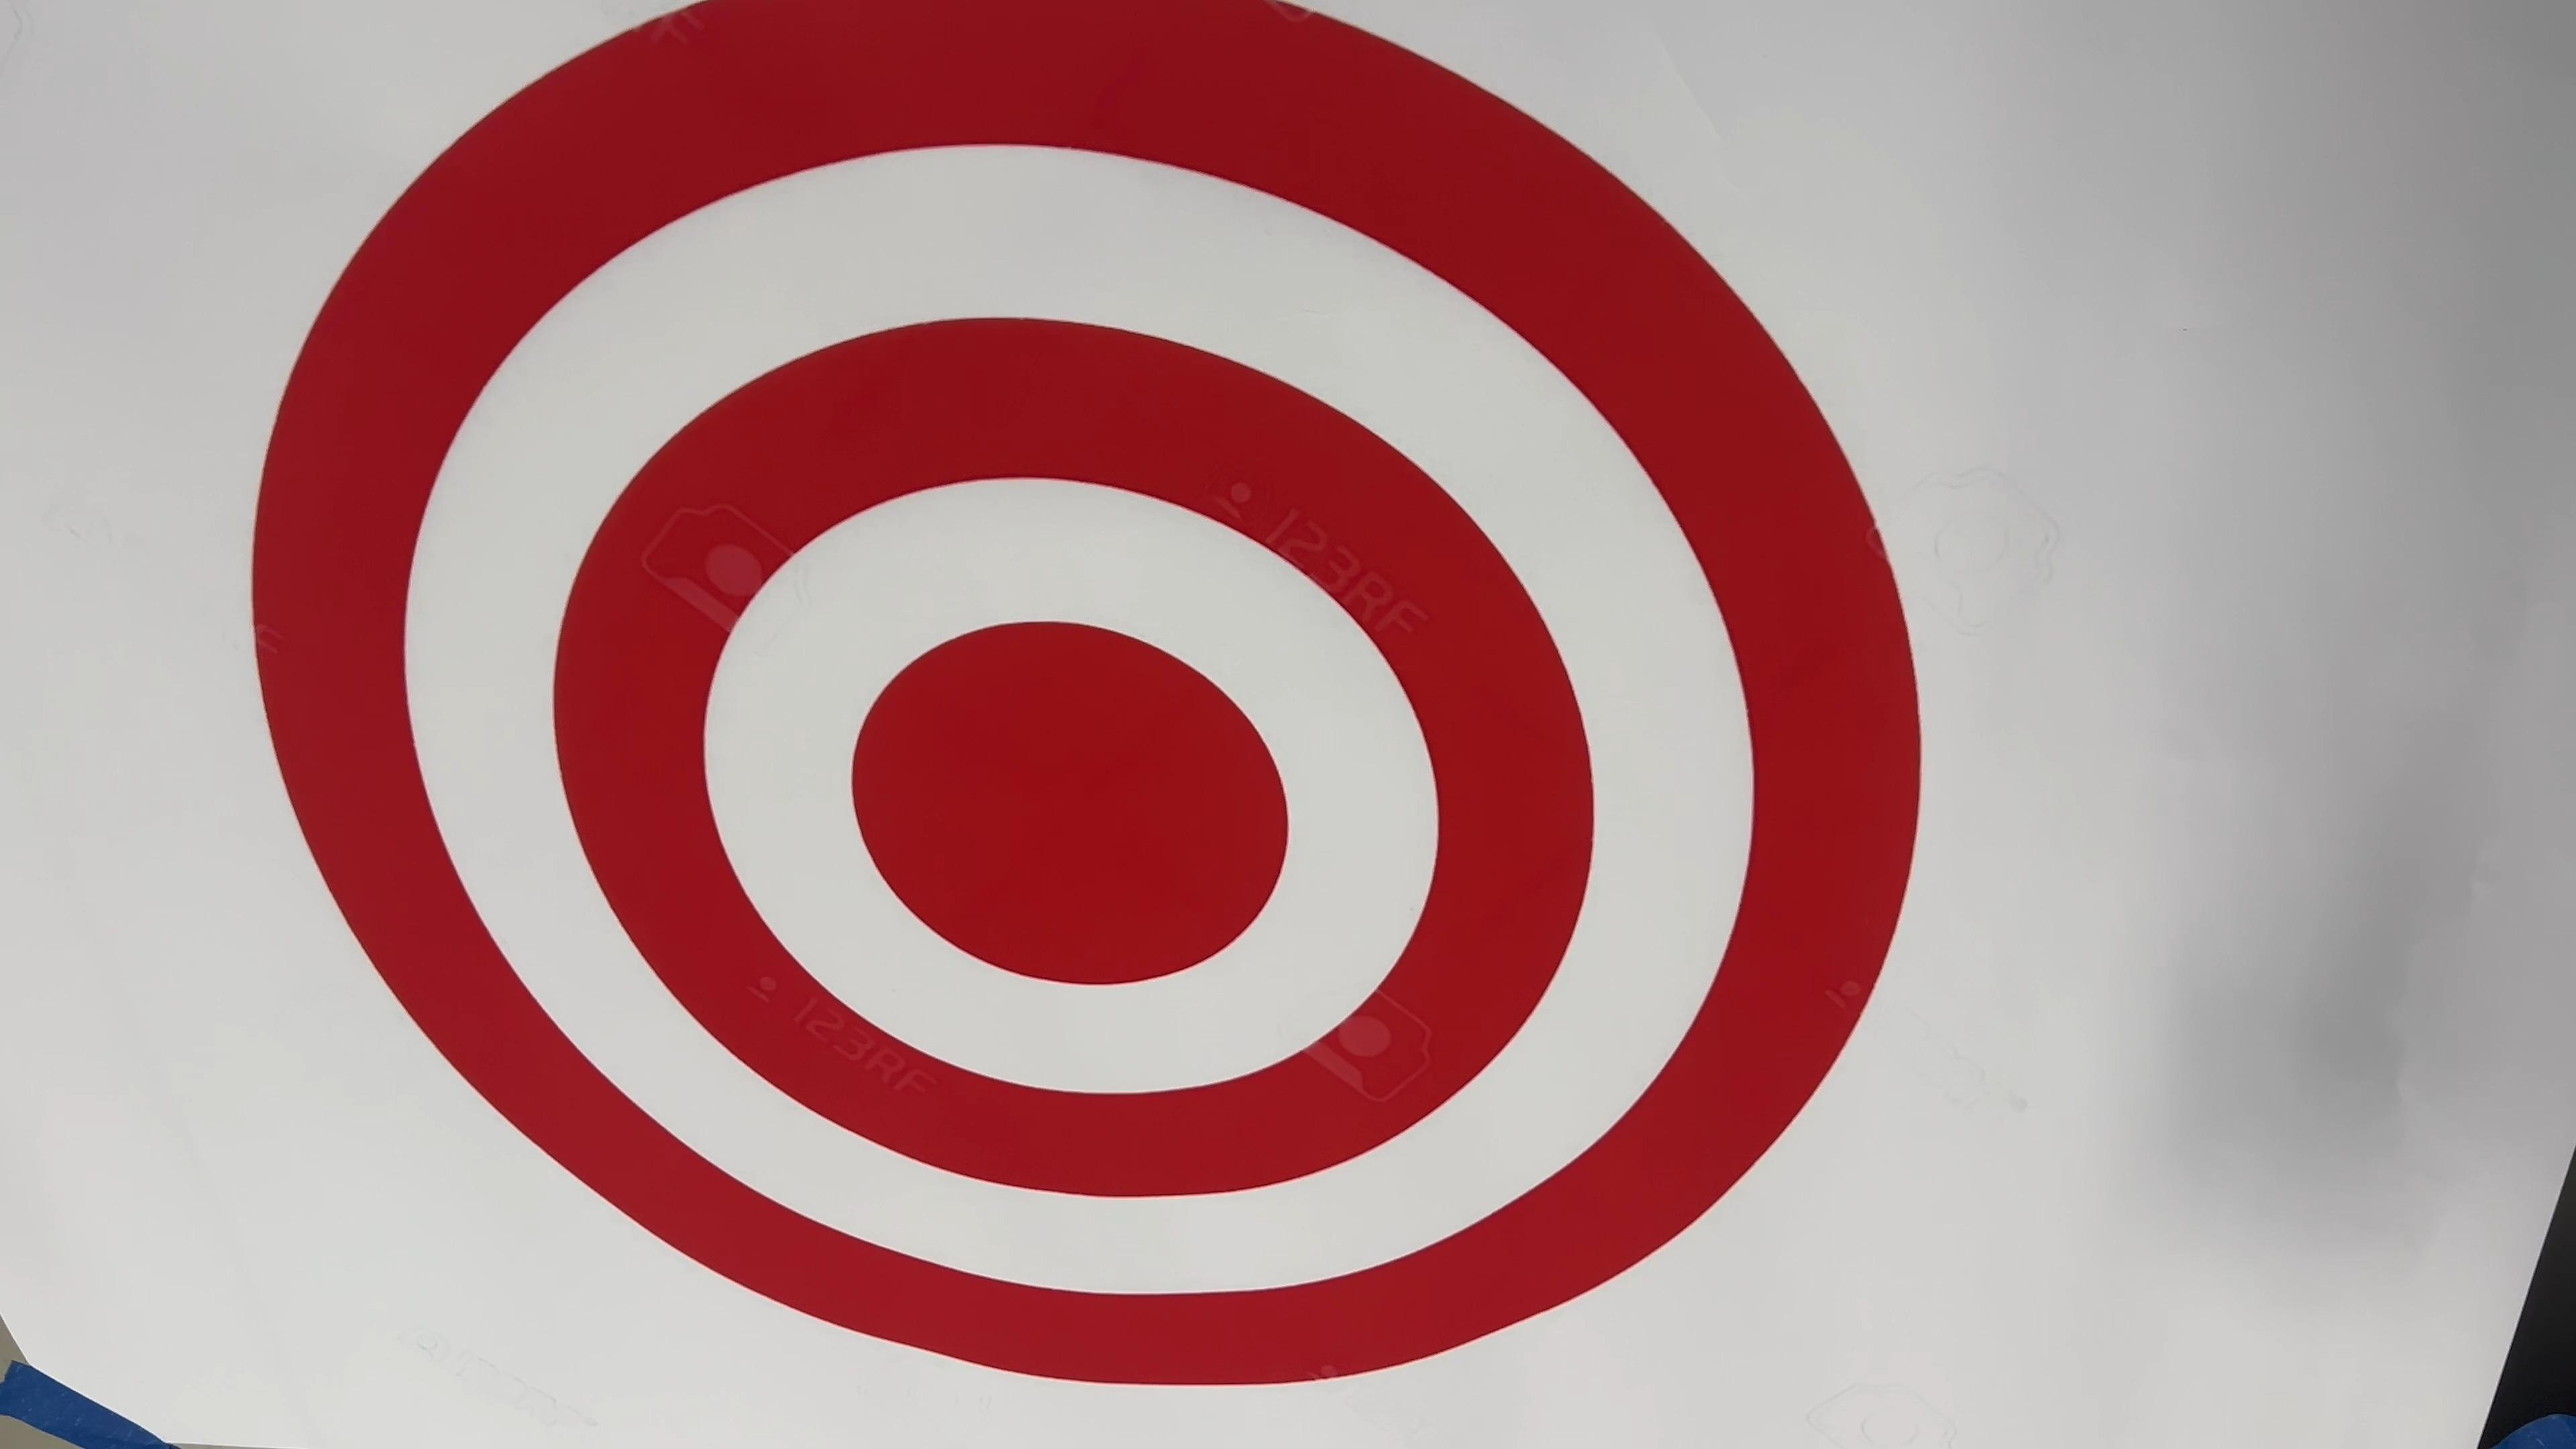target_red: (182, 0, 1930, 1442)
